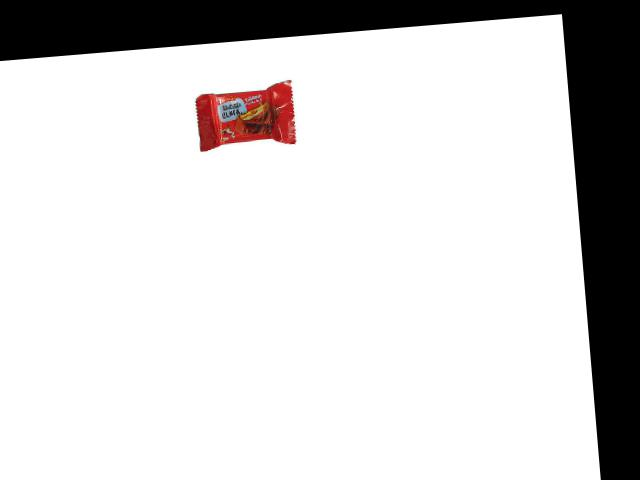chocolate: (185, 73, 297, 151)
